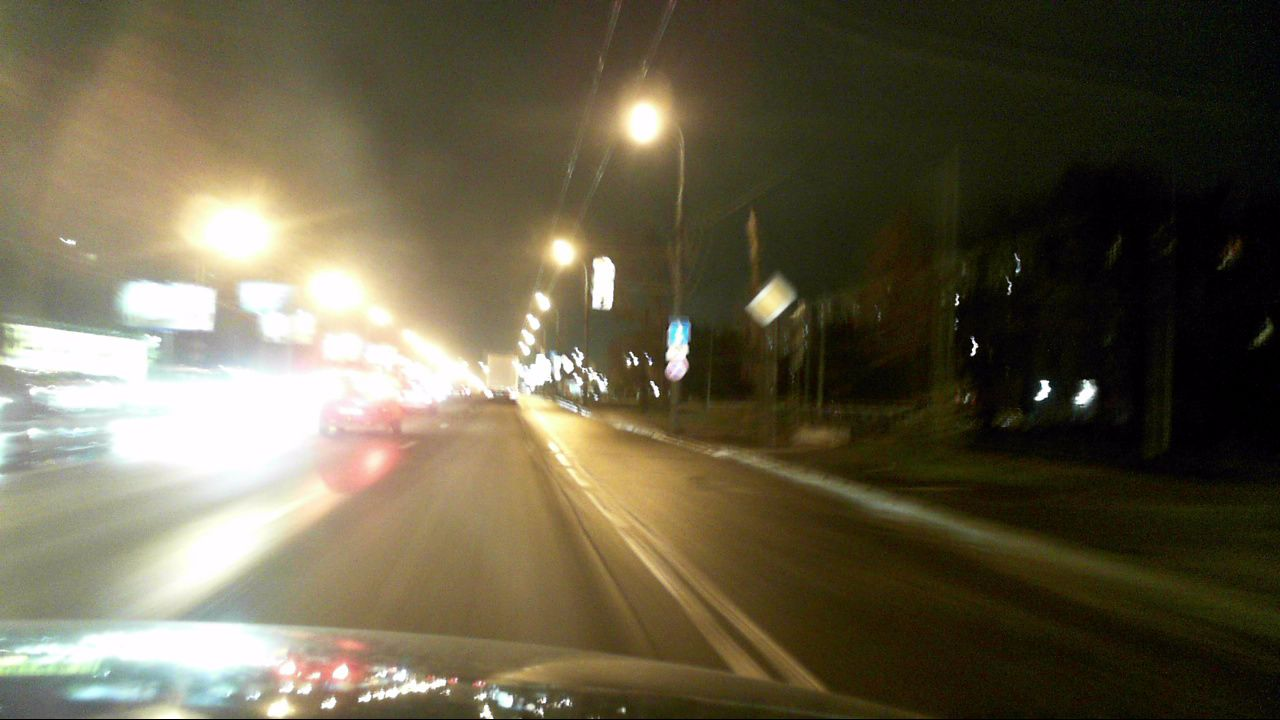No Parking: (664, 359, 687, 380)
